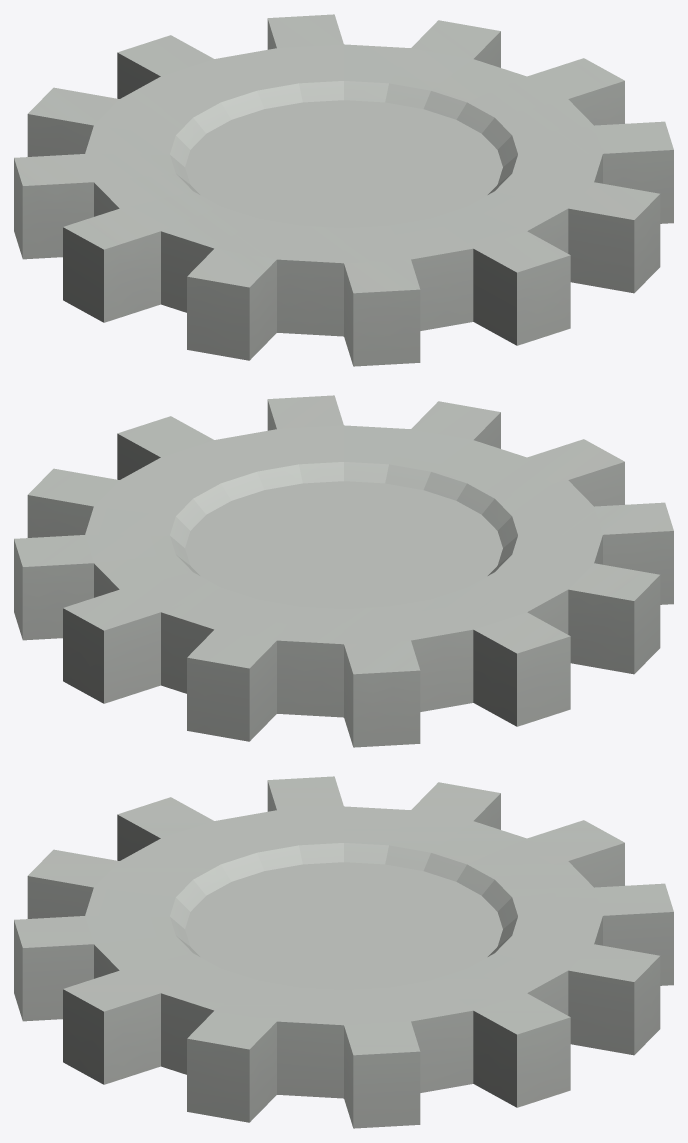
File: Cog.fbx
The picture shows the model from 3 angles, top to bottom: view 1: azimuth 30°, elevation 25°; view 2: azimuth 150°, elevation 25°; view 3: azimuth 270°, elevation 25°; orthographic projection.
Visible parts, largest first — view 1: Cog; view 2: Cog; view 3: Cog.
Part boxes in pixels (x1,y1,x2,y2): Cog: (14, 14, 673, 366); Cog: (14, 395, 673, 747); Cog: (14, 776, 673, 1128).
Size of the model in its own units: 340 by 41.6 by 340.
